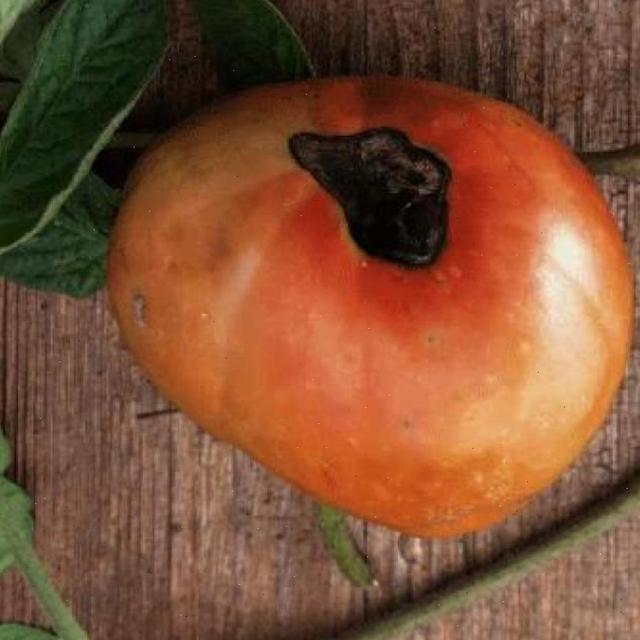Blossom End Rot Fruit: (192, 82, 302, 182)
